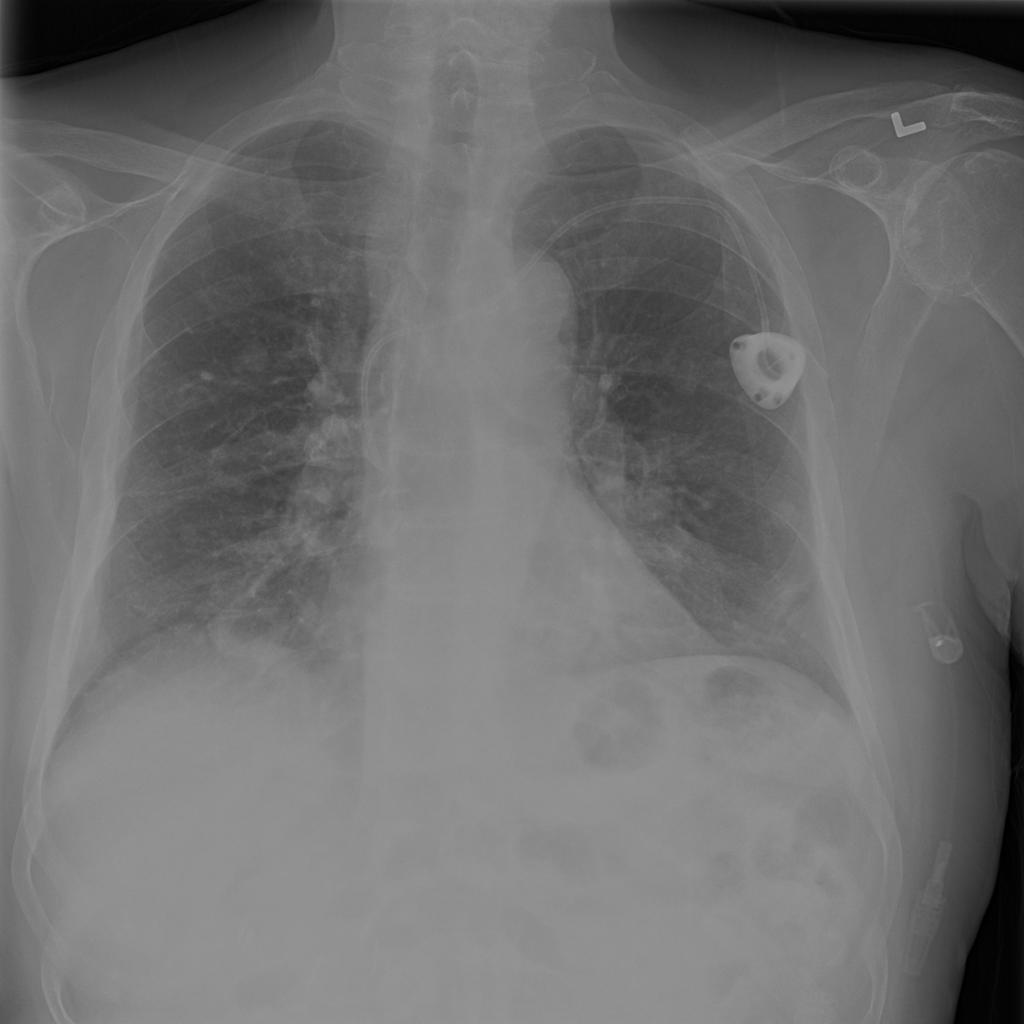nodule: (761, 488, 812, 538), (684, 473, 734, 522), (233, 338, 281, 385)
